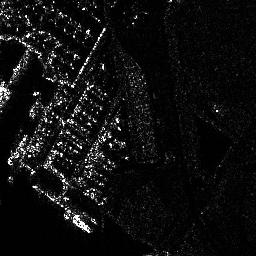ship: (6, 133, 28, 166), (62, 212, 91, 234)
